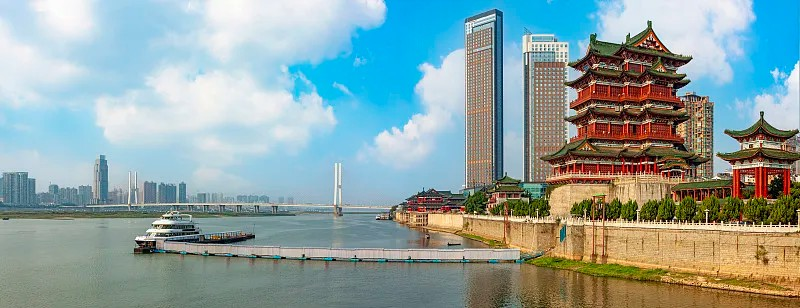Teng: (540, 21, 711, 177)
